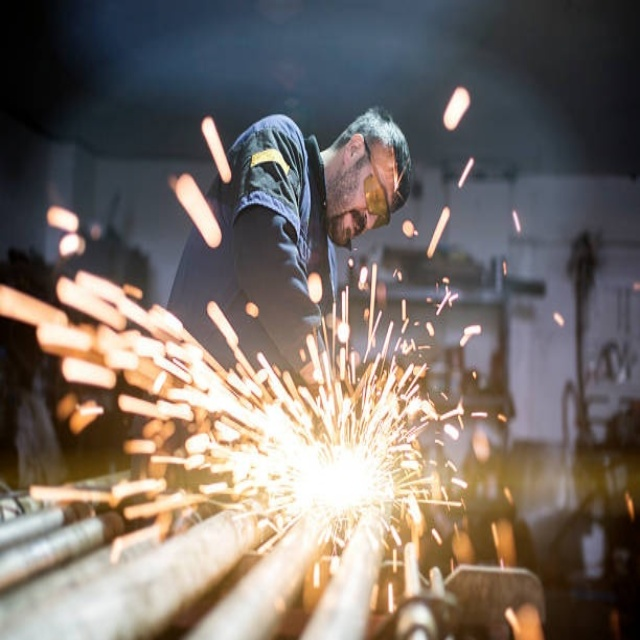Gafas: (361, 132, 396, 232)
Sin_mascara: (334, 202, 364, 245)
